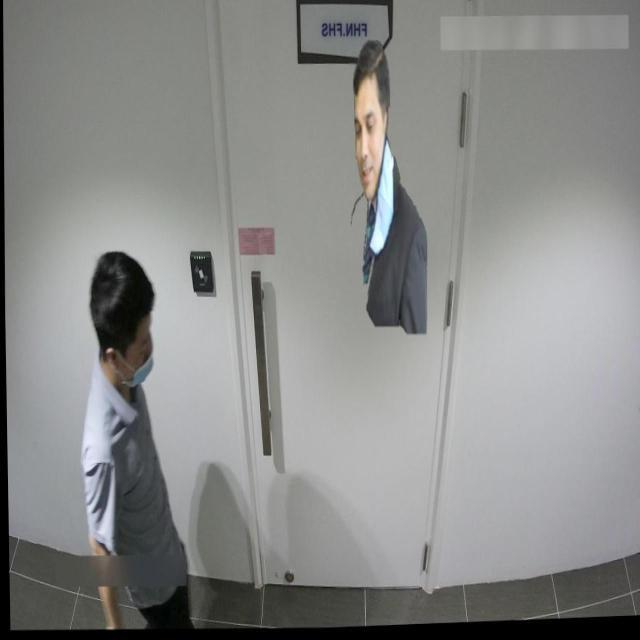hairnet: (352, 73, 396, 258)
